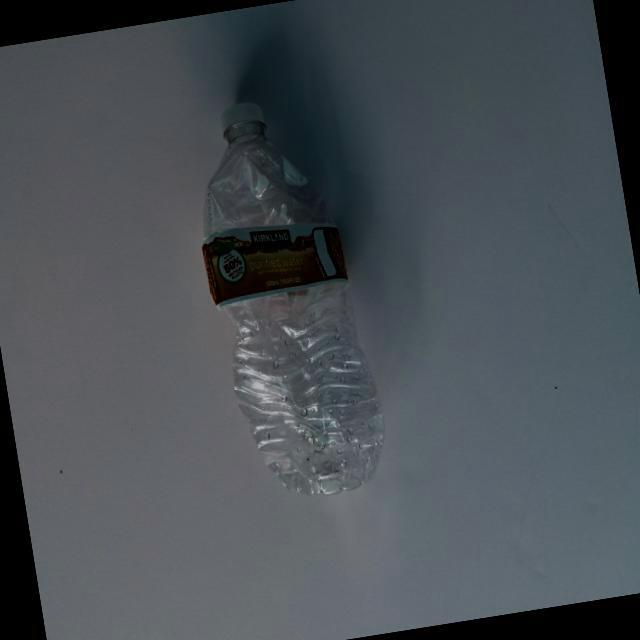plastic: (160, 66, 473, 559)
